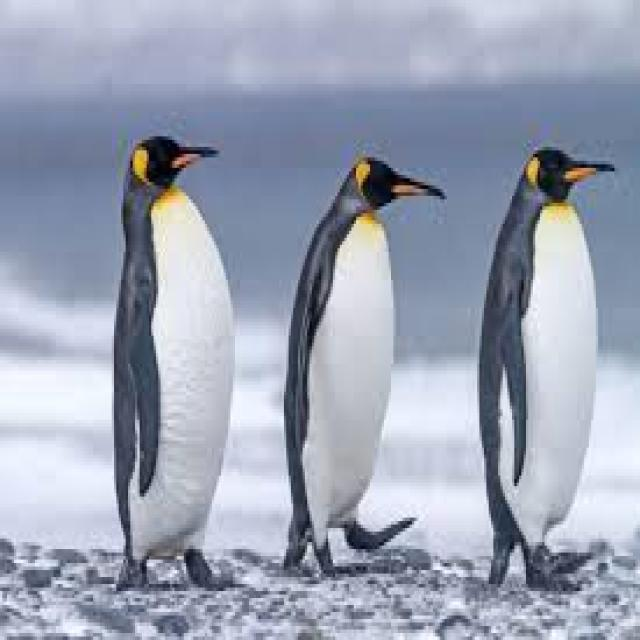penguin: (284, 157, 442, 567), (477, 147, 612, 581), (114, 136, 233, 584)
